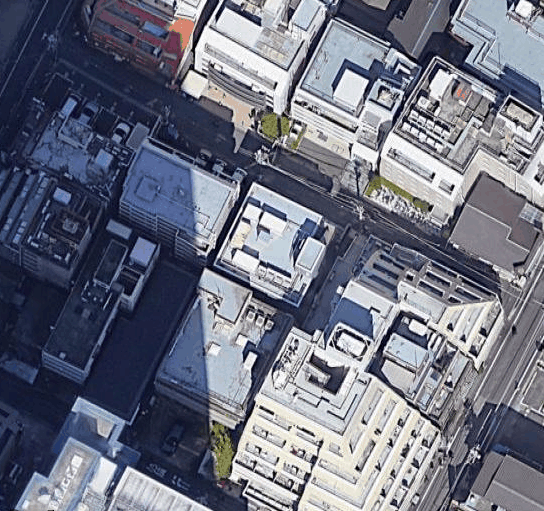facility: (158, 265, 296, 414), (210, 179, 339, 309), (116, 135, 241, 244), (260, 332, 375, 436)
flatroof: (114, 133, 239, 242)
rooftop: (382, 54, 543, 200), (44, 213, 166, 376), (292, 15, 423, 142), (19, 102, 135, 201), (0, 173, 99, 272), (366, 304, 452, 399), (207, 0, 324, 66)
